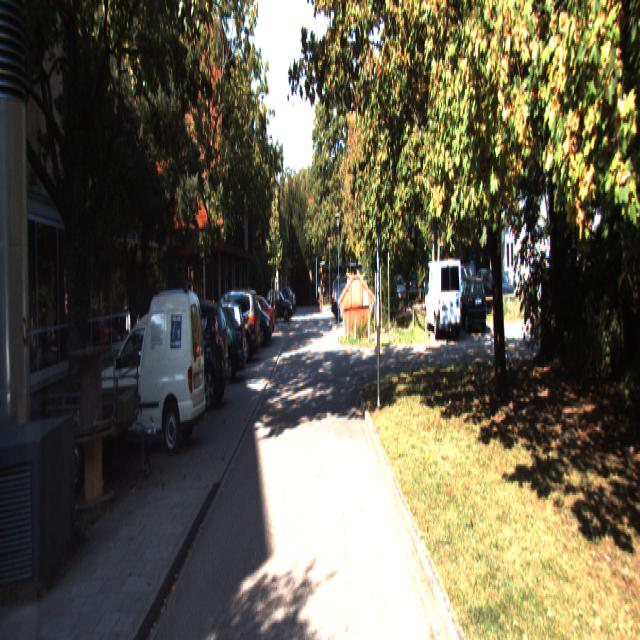Car: (90, 285, 206, 461), (139, 295, 231, 413), (177, 303, 248, 385), (197, 288, 261, 367), (192, 300, 246, 376), (423, 257, 463, 340), (453, 274, 488, 334)
